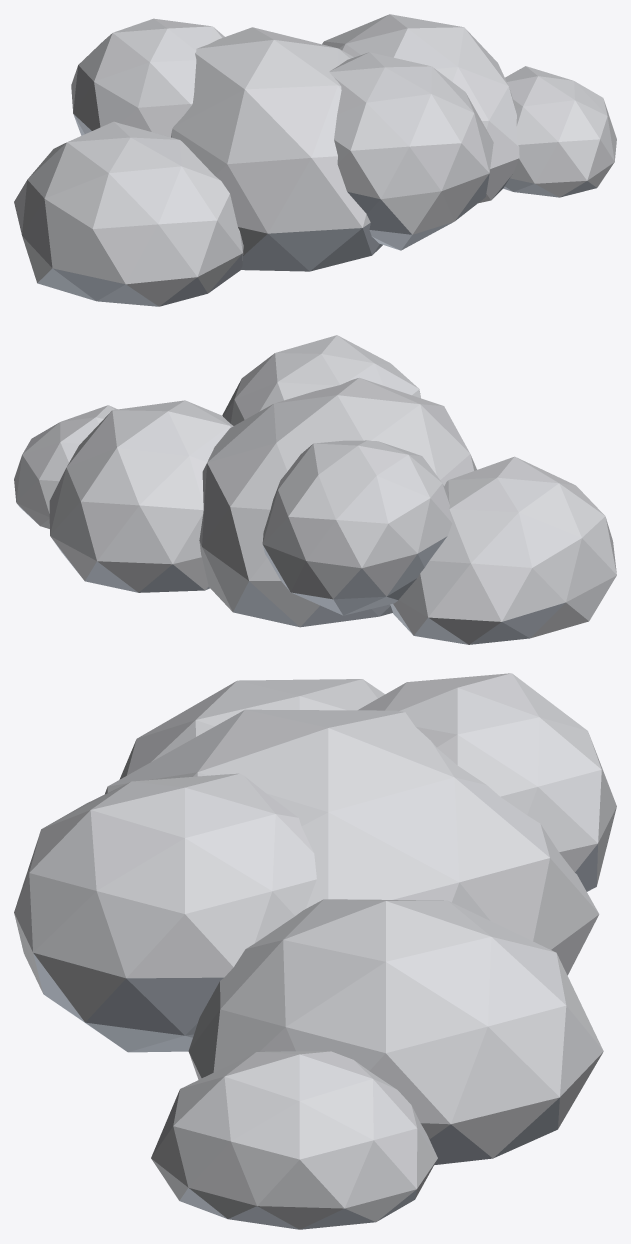
Rendered from cloud.glb.
3 views of the same model, one above another, from view 1: azimuth 30°, elevation 25°; view 2: azimuth 150°, elevation 25°; view 3: azimuth 270°, elevation 25° (orthographic). The views are drawn at different scales.
Parts seen in each view (by area): view 1: cloud; view 2: cloud; view 3: cloud.
Part boxes in pixels (x1,y1,x2,y2): cloud: (14, 14, 616, 306); cloud: (14, 335, 616, 644); cloud: (14, 673, 616, 1229).
Size of the model in its own units: 5 by 1.6 by 3.
